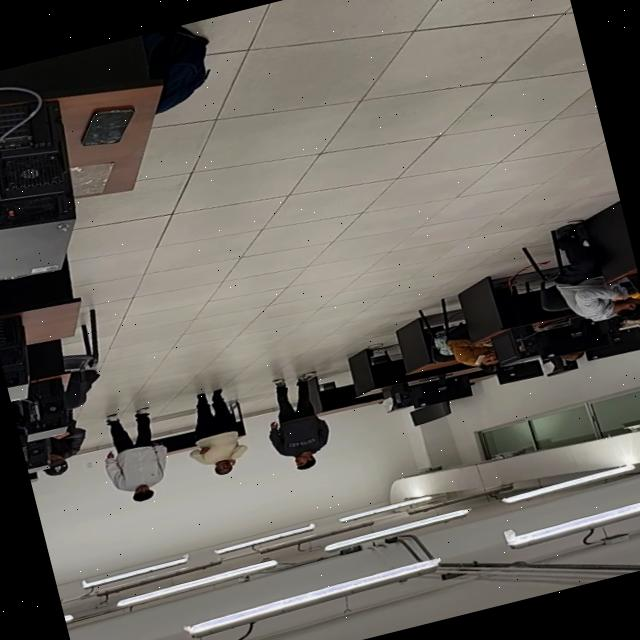Persona: (255, 369, 340, 476), (94, 403, 178, 508), (173, 384, 254, 482)
